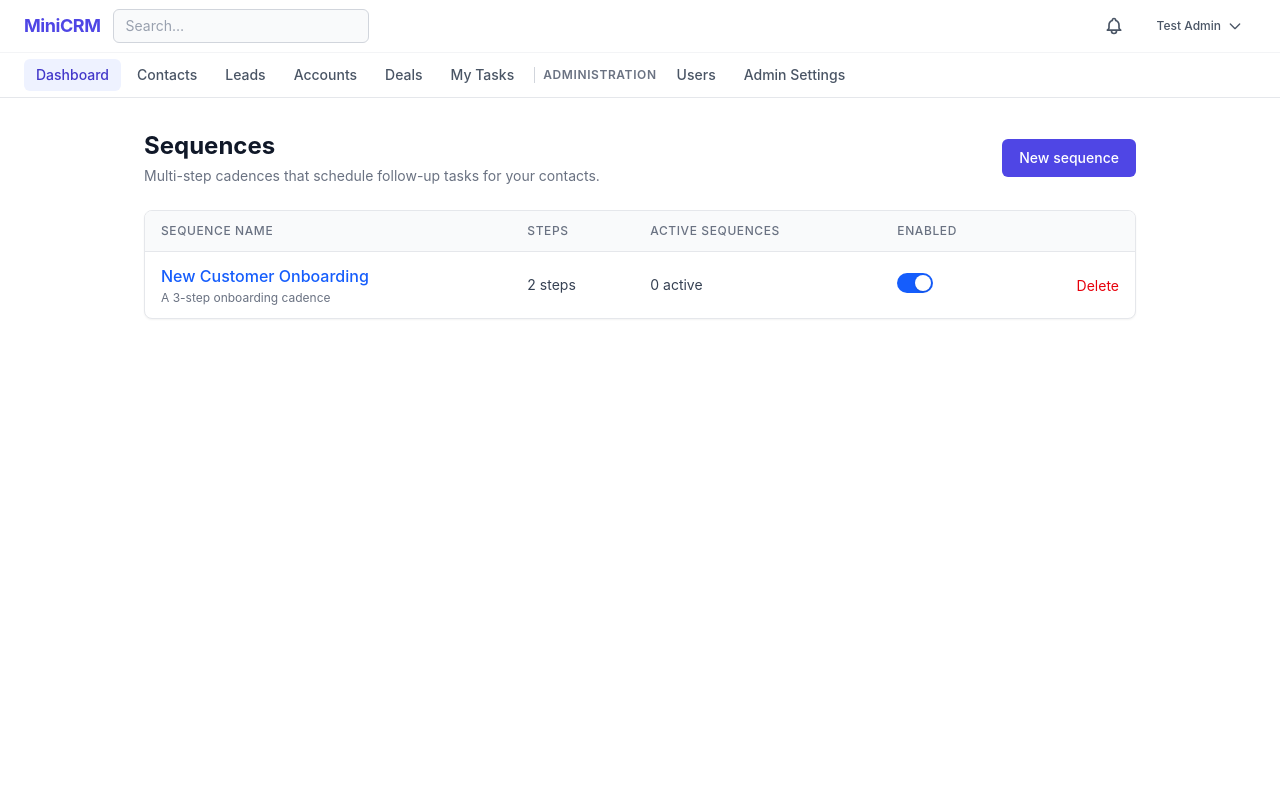
Test: SequencesPage › shows the create form when New Sequence is clicked
Click the button with test id "new-sequence-button" at [1069, 158], box [1002,139,1136,177]
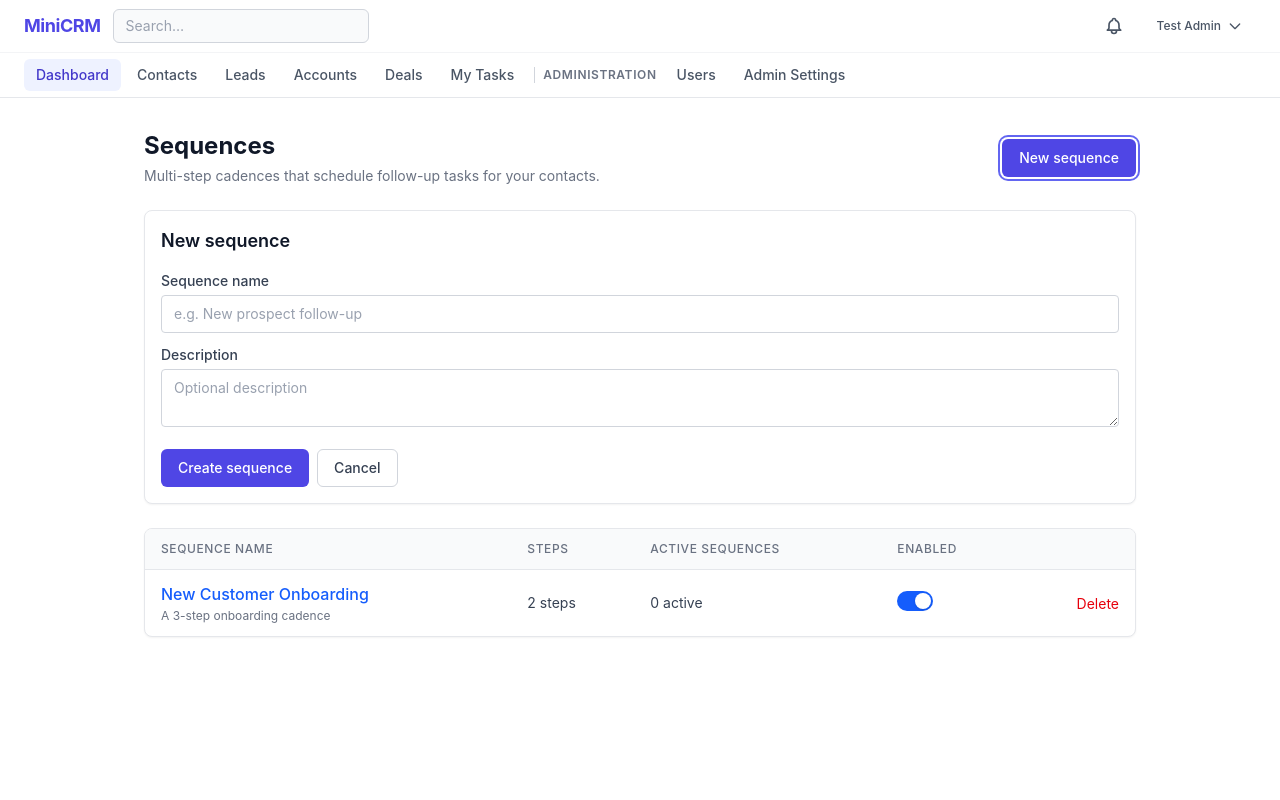
Expected: the form with test id "create-sequence-form" is shown, [144,210,1136,504]
